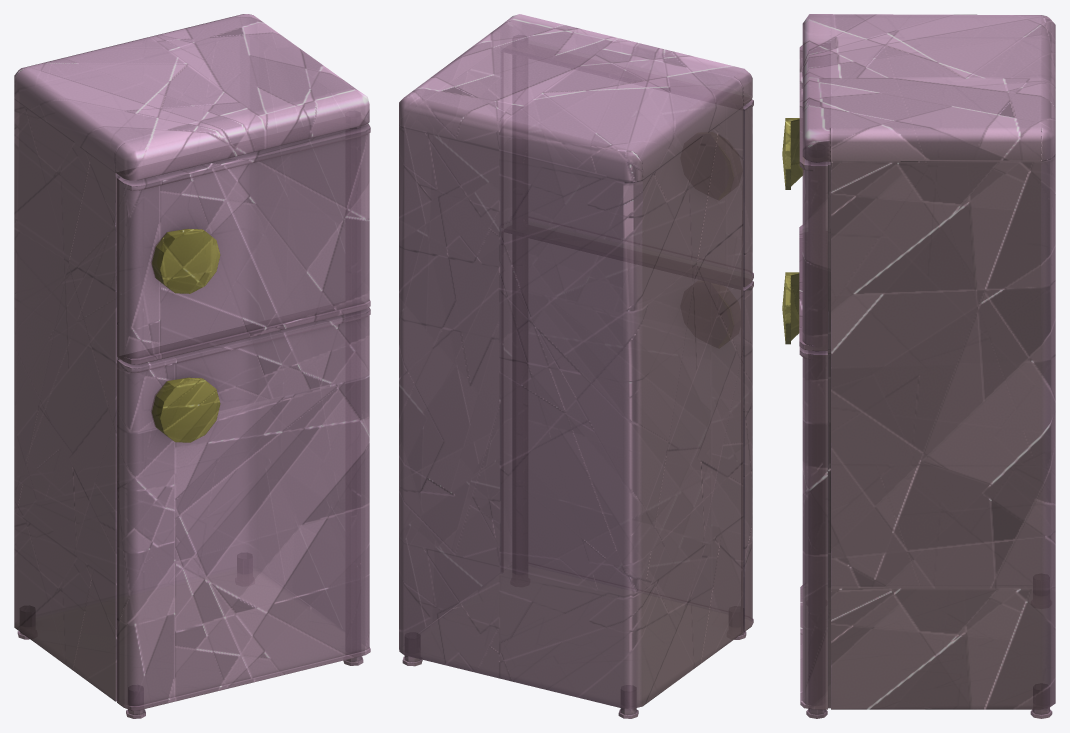
Rendered from MD_fridge.fbx.
3 views of the same model, side by side, from view 1: azimuth 30°, elevation 25°; view 2: azimuth 150°, elevation 25°; view 3: azimuth 270°, elevation 25° (orthographic). The views are drawn at different scales.
Parts seen in each view (by area): view 1: polySurface22; view 2: polySurface22; view 3: polySurface22.
Boxes of the visible parts, x1,y1,x2,y2 form: polySurface22: [14, 14, 370, 718]; polySurface22: [399, 14, 753, 718]; polySurface22: [782, 14, 1055, 718].
Size of the model in its own units: 121 by 269 by 113.
